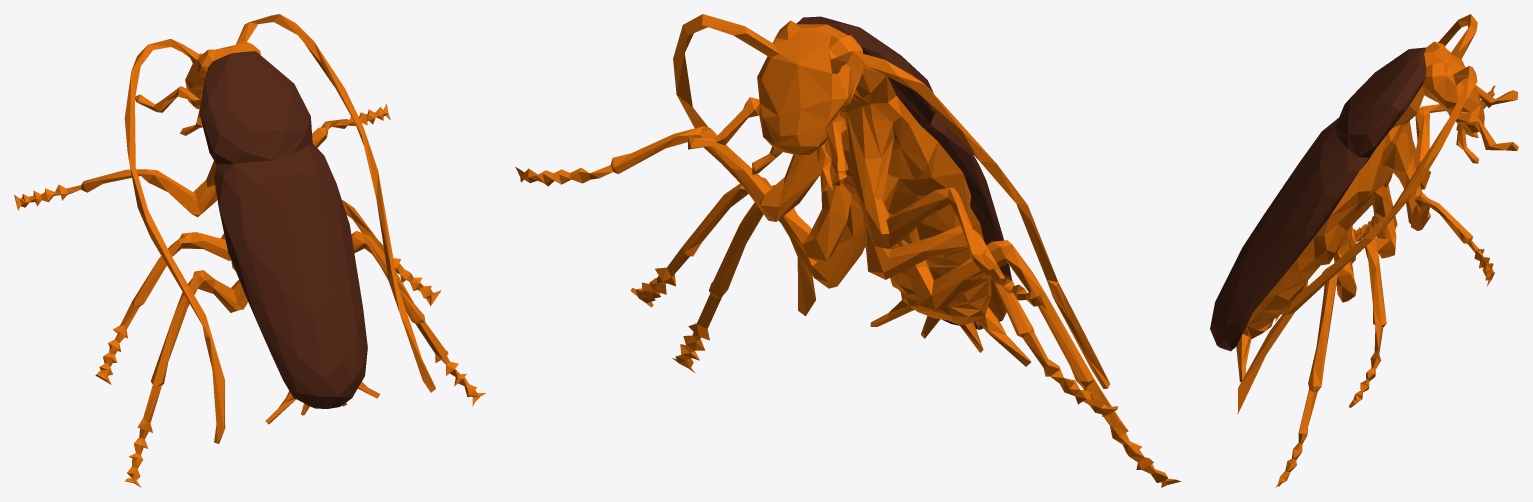
The model's file is cock3.fbx.
3 renders of one model, left to right at view 1: azimuth 30°, elevation 25°; view 2: azimuth 150°, elevation 25°; view 3: azimuth 270°, elevation 25°, orthographic. The views are drawn at different scales.
Parts seen in each view (by area): view 1: 15919_Cockroach_v1; view 2: 15919_Cockroach_v1; view 3: 15919_Cockroach_v1.
Boxes of the visible parts, left/top/right/bottom form: 15919_Cockroach_v1: left=14, top=14, right=486, bottom=487; 15919_Cockroach_v1: left=515, top=14, right=1181, bottom=487; 15919_Cockroach_v1: left=1210, top=14, right=1518, bottom=487.
Size of the model in its own units: 120 by 107 by 83.36.
